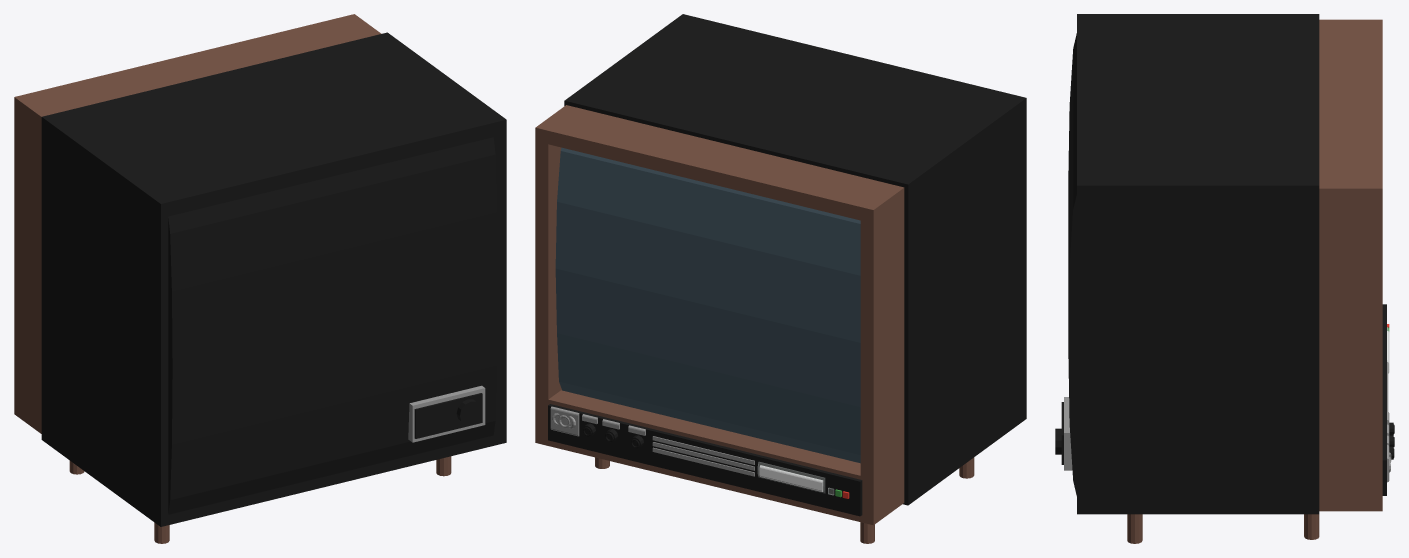
File: old tv off by Justin Randall - 5XSU6cgF3BP.glb
3 renders of one model, left to right at view 1: azimuth 30°, elevation 25°; view 2: azimuth 150°, elevation 25°; view 3: azimuth 270°, elevation 25°, orthographic. The views are drawn at different scales.
Visible parts, largest first — view 1: group1644547169, group693330270, group2129653897, group684330329, group329165408, group954181115; view 2: group693330270, group1626004127, group684330329, group2129653897, group970267179, group1004929428, group1085757518; view 3: group693330270, group1085757518, group684330329, group1644547169, group970267179, group2129653897, group954181115, group1131956557.
Boxes of the visible parts, x1=… form: group1644547169: x1=168, y1=137, x2=497, y2=514; group693330270: x1=41, y1=32, x2=506, y2=526; group2129653897: x1=14, y1=94, x2=53, y2=433; group684330329: x1=14, y1=14, x2=381, y2=124; group329165408: x1=414, y1=393, x2=482, y2=438; group954181115: x1=408, y1=385, x2=485, y2=442; group693330270: x1=564, y1=14, x2=1026, y2=505; group1626004127: x1=555, y1=147, x2=860, y2=463; group684330329: x1=535, y1=105, x2=903, y2=223; group2129653897: x1=860, y1=184, x2=904, y2=524; group970267179: x1=548, y1=404, x2=862, y2=516; group1004929428: x1=535, y1=390, x2=873, y2=525; group1085757518: x1=535, y1=133, x2=561, y2=429; group693330270: x1=1077, y1=14, x2=1319, y2=514; group1085757518: x1=1319, y1=194, x2=1382, y2=511; group684330329: x1=1319, y1=26, x2=1382, y2=199; group1644547169: x1=1068, y1=33, x2=1076, y2=495; group970267179: x1=1382, y1=304, x2=1386, y2=495; group2129653897: x1=1319, y1=19, x2=1382, y2=26; group954181115: x1=1064, y1=397, x2=1072, y2=470; group1131956557: x1=1127, y1=514, x2=1142, y2=543.
Size of the model in its own units: 1.86 by 1.88 by 1.56.
